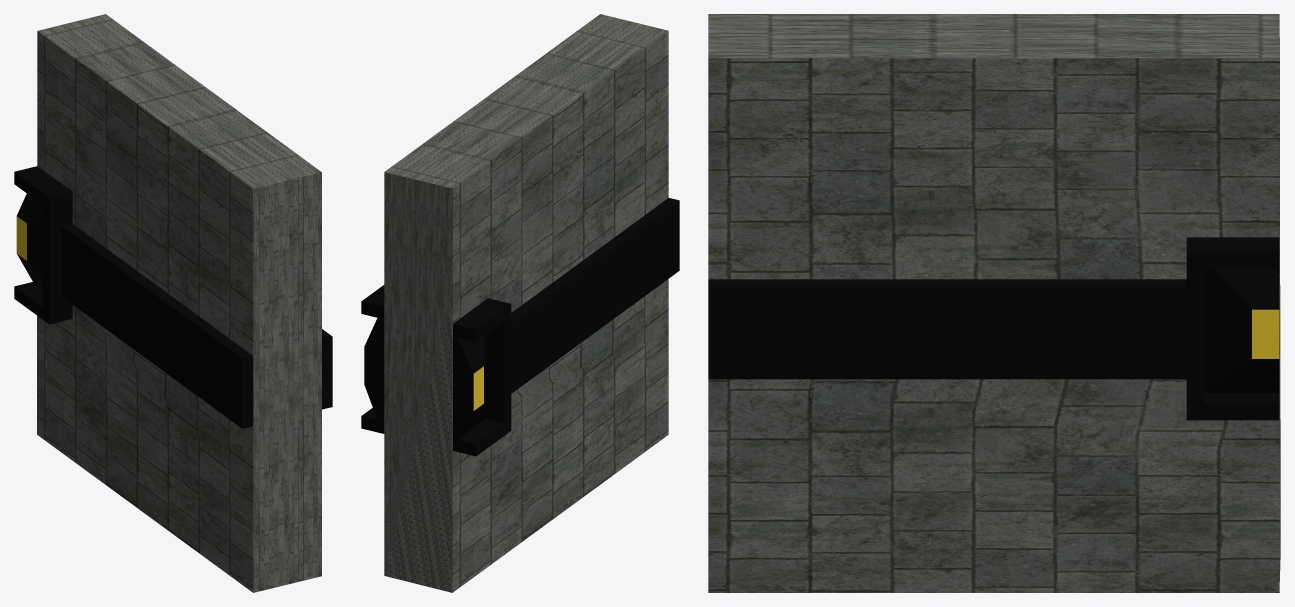
Rendered from rightSideDoor.fbx.
3 views of the same model, side by side, from view 1: azimuth 30°, elevation 25°; view 2: azimuth 150°, elevation 25°; view 3: azimuth 270°, elevation 25° (orthographic). The views are drawn at different scales.
Visible parts, largest first — view 1: Porte, clef; view 2: Porte, clef; view 3: Porte, clef.
Boxes of the visible parts, x1,y1,x2,y2 form: Porte: [37, 14, 332, 592]; clef: [14, 166, 72, 324]; Porte: [384, 14, 679, 592]; clef: [361, 285, 511, 456]; Porte: [708, 14, 1280, 592]; clef: [1186, 237, 1279, 420].
Bounding box in the file's own units: 3.12 × 10.16 × 10.47.
Materials: 3 (1 with a texture image).
